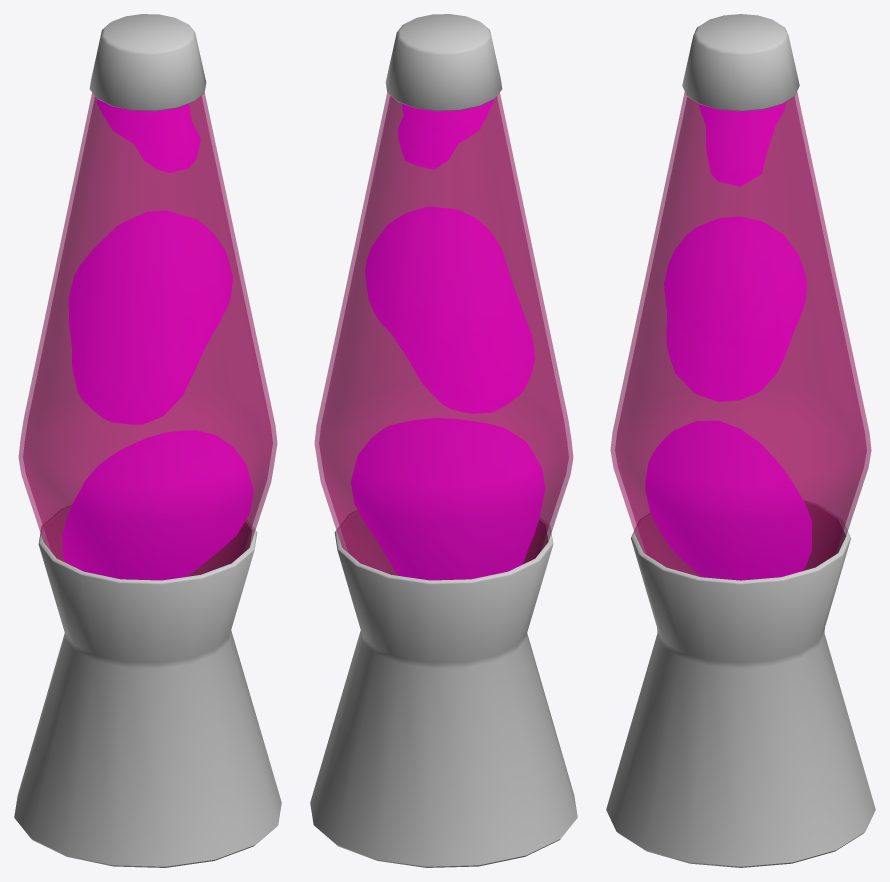
Rendered from Lava lamp.fbx.
The picture shows the model from 3 angles, left to right: view 1: azimuth 30°, elevation 25°; view 2: azimuth 150°, elevation 25°; view 3: azimuth 270°, elevation 25°; orthographic projection.
Visible parts, largest first — view 1: Base, Blobs; view 2: Base, Blobs; view 3: Base, Blobs.
Part boxes in pixels (bbox=[...]): Base: bbox=[14, 14, 281, 867]; Blobs: bbox=[62, 99, 253, 580]; Base: bbox=[310, 14, 577, 867]; Blobs: bbox=[351, 100, 545, 580]; Base: bbox=[606, 14, 875, 867]; Blobs: bbox=[645, 101, 811, 580].
Bounding box in the file's own units: 0.09 × 0.2869 × 0.09.
